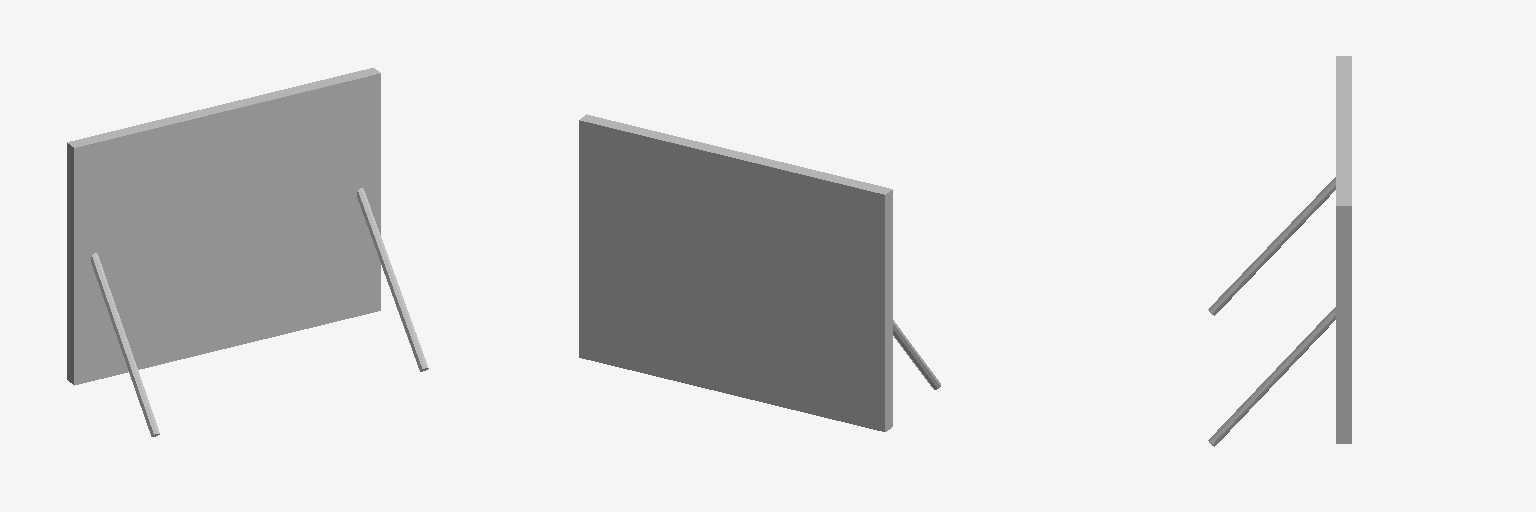
Rendered from branchPoint.obj.
The picture shows the model from 3 angles: view 1: azimuth 30°, elevation 25°; view 2: azimuth 150°, elevation 25°; view 3: azimuth 270°, elevation 25°; orthographic projection.
Visible parts, largest first — view 1: 立方体_立方体.002; view 2: 立方体_立方体.002; view 3: 立方体_立方体.002.
Boxes of the visible parts, x1=… form: 立方体_立方体.002: x1=67, y1=68, x2=428, y2=436; 立方体_立方体.002: x1=579, y1=114, x2=940, y2=431; 立方体_立方体.002: x1=1208, y1=56, x2=1351, y2=446.
Bounding box in the file's own units: 2 × 1.55 × 0.8106.